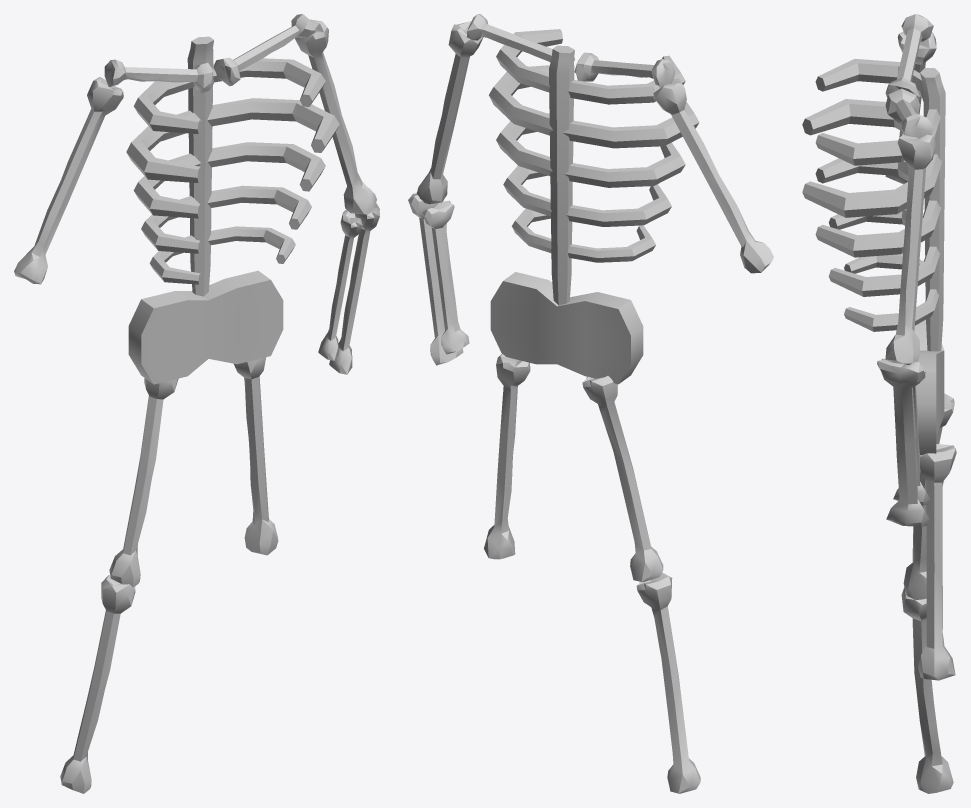
Rendered from Skeleton_02.fbx.
The picture shows the model from 3 angles, left to right: view 1: azimuth 30°, elevation 25°; view 2: azimuth 150°, elevation 25°; view 3: azimuth 270°, elevation 25°; orthographic projection. The views are drawn at different scales.
Parts seen in each view (by area): view 1: Skeleton_02_LOD0; view 2: Skeleton_02_LOD0; view 3: Skeleton_02_LOD0.
Boxes of the visible parts, bbox=[...] form: Skeleton_02_LOD0: bbox=[14, 14, 379, 793]; Skeleton_02_LOD0: bbox=[408, 14, 773, 793]; Skeleton_02_LOD0: bbox=[802, 14, 956, 793].
Size of what is drawn, in the model's own units: 0.6619 by 1.27 by 0.2248.
